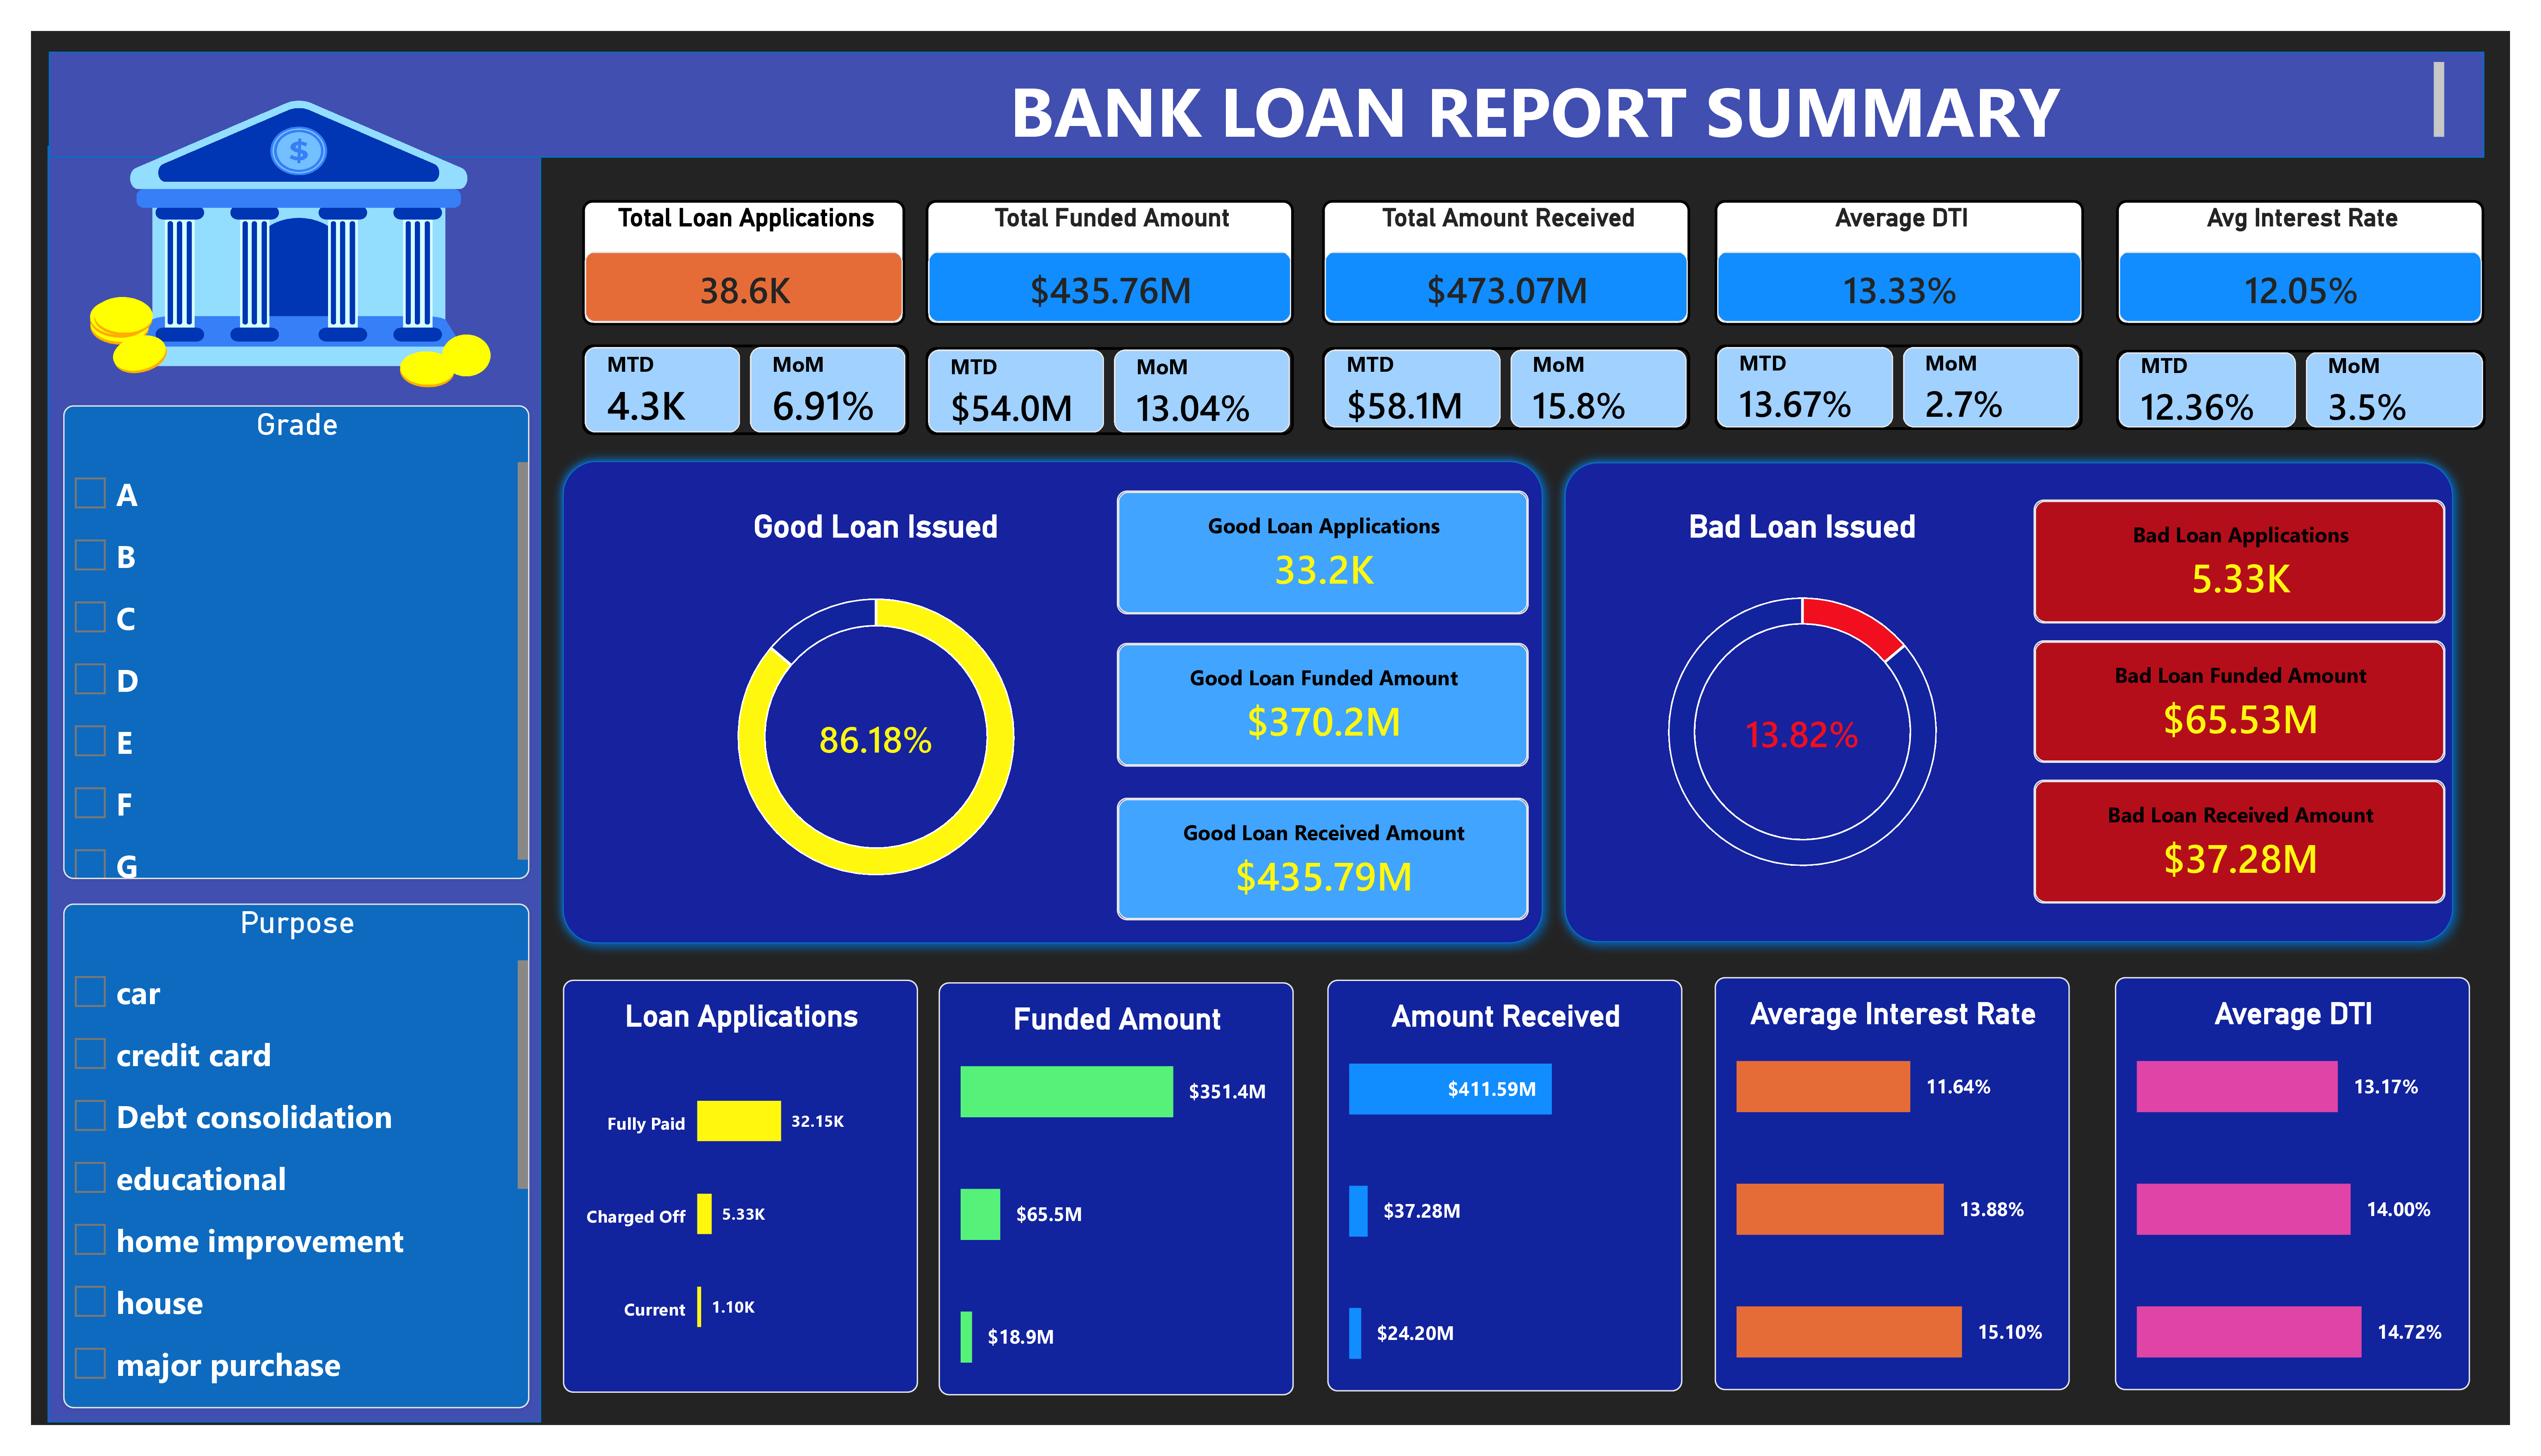

Layout of this report page (visuals, bound fields, positions):
{"tool":"powerbi","page":{"name":"Summary Dashboard","canvas":[1920,1080],"ordinal":0},"visuals":[{"type":"shape","box":[13.1,89.5,382.2,988.2],"z":0},{"type":"cardVisual","title":"Total Loan Applications","fields":{"Data":["CountNonNull(financial_loan_data.id)"]},"box":[427.2,131.1,250,97.4],"z":0,"group":"g1"},{"type":"cardVisual","fields":{"Data":["financial_loan_data.Bad Loan Applications"]},"box":[1551.3,363.5,318.5,95.6],"z":0,"group":"g3"},{"type":"cardVisual","fields":{"Data":["financial_loan_data.MTD Loan Applications","financial_loan_data.MoM Change"]},"box":[427.2,243.5,252.9,69.3],"z":1000,"group":"g1"},{"type":"shape","box":[402.8,324.1,777.5,391.6],"z":1000},{"type":"cardVisual","fields":{"Data":["financial_loan_data.Bad Loan Funded Amount"]},"box":[1551.3,472.2,318.5,95.6],"z":1000,"group":"g3"},{"type":"shape","box":[13.7,15.7,1886.3,82.4],"z":2000},{"type":"cardVisual","fields":{"Data":["financial_loan_data.MTD Funded Amount","financial_loan_data.MoM Funded Amount %"]},"box":[693.2,245.4,284.8,67.4],"z":2000,"group":"g1"},{"type":"cardVisual","fields":{"Data":["financial_loan_data.Bad Loan Received Amount"]},"box":[1551.3,580.8,318.5,95.6],"z":2000,"group":"g3"},{"type":"group","id":"g1","title":"Group 1","box":[427.2,131.1,1474.5,181.7],"z":3000},{"type":"cardVisual","fields":{"Data":["financial_loan_data.MTD Received Amount","financial_loan_data.MoM Received Amount %"]},"box":[1000.5,245.4,284.8,63.7],"z":3000,"group":"g1"},{"type":"cardVisual","fields":{"Data":["financial_loan_data.MTD Average DTI","financial_loan_data.MoM DTI Change"]},"box":[1304,243.5,284.8,65.6],"z":4000,"group":"g1"},{"type":"donutChart","title":"Good Loan Issued","fields":{"Y":["financial_loan_data.Good Loan %","financial_loan_data.Bad Loan %"]},"box":[427.2,356,455.3,341],"z":4000},{"type":"cardVisual","fields":{"Data":["financial_loan_data.MTD Average Interest Rate","financial_loan_data.MoM Interest Rate Change"]},"box":[1615,247.3,286.7,61.8],"z":5000,"group":"g1"},{"type":"shape","box":[1179.5,324.7,705.4,390],"z":5000},{"type":"cardVisual","title":"Average DTI","fields":{"Data":["Avg(financial_loan_data.dti)"]},"box":[1304,131.1,286.7,97.4],"z":6000,"group":"g1"},{"type":"donutChart","title":"Bad Loan Issued","fields":{"Y":["financial_loan_data.Bad Loan %","financial_loan_data.Good Loan %"]},"box":[1193.4,356,357.8,333.5],"z":6000},{"type":"cardVisual","title":"Total Amount Received","fields":{"Data":["Sum(financial_loan_data.total_payment)"]},"box":[1000.5,131.1,284.8,97.4],"z":7000,"group":"g1"},{"type":"group","id":"g2","title":"Group 2","box":[841.2,356,318.5,332.9],"z":7000},{"type":"cardVisual","fields":{"Data":["financial_loan_data.Good Loan Applications"]},"box":[841.2,356,318.5,95.6],"z":7000,"group":"g2"},{"type":"cardVisual","title":"Total Funded Amount","fields":{"Data":["Sum(financial_loan_data.loan_amount)"]},"box":[693.2,131.1,284.8,97.4],"z":8000,"group":"g1"},{"type":"group","id":"g3","title":"Group 3","box":[1551.3,363.5,318.5,312.9],"z":8000},{"type":"cardVisual","fields":{"Data":["financial_loan_data.Good Loan Received Amount"]},"box":[841.2,593.9,318.5,95],"z":8000,"group":"g2"},{"type":"cardVisual","title":"Avg Interest Rate","fields":{"Data":["Avg(financial_loan_data.int_rate)"]},"box":[1615,131.1,284.8,97.4],"z":9000,"group":"g1"},{"type":"cardVisual","fields":{"Data":["financial_loan_data.Good Loan Funded Amount"]},"box":[841.2,474,318.5,95.6],"z":9000,"group":"g2"},{"type":"group","id":"g4","title":"Group 4","box":[412.4,733.4,1476.9,323.7],"z":9000},{"type":"textbox","box":[468.6,23.5,1400,64.7],"z":10000},{"type":"slicer","title":"Grade","fields":{"Values":["financial_loan_data.grade"]},"box":[25.5,290.2,360.8,366.7],"z":11000},{"type":"clusteredBarChart","title":"Loan Applications","fields":{"Category":["financial_loan_data.loan_status"],"Y":["Sum(financial_loan_data.id)"]},"box":[412.4,735.3,275,320],"z":11000,"group":"g4"},{"type":"slicer","title":"Purpose","fields":{"Values":["financial_loan_data.purpose"]},"box":[25.5,676.5,360.8,390.2],"z":12000},{"type":"clusteredBarChart","title":"Amount Received ","fields":{"Y":["financial_loan_data.Total Received Amount"],"Category":["financial_loan_data.loan_status"]},"box":[1004,735.3,275,319.1],"z":12000,"group":"g4"},{"type":"image","box":[46,54,310,222],"z":13000},{"type":"clusteredBarChart","title":"Funded Amount ","fields":{"Y":["Sum(financial_loan_data.loan_amount)"],"Category":["financial_loan_data.loan_status"]},"box":[703.5,737.1,275,320],"z":13000,"group":"g4"},{"type":"clusteredBarChart","title":"Average Interest Rate","fields":{"Y":["Avg(financial_loan_data.int_rate)"],"Category":["financial_loan_data.loan_status"]},"box":[1304.5,733.4,275,320],"z":15000,"group":"g4"},{"type":"clusteredBarChart","title":"Average  DTI","fields":{"Category":["financial_loan_data.loan_status"],"Y":["Avg(financial_loan_data.dti)"]},"box":[1614.3,733.4,275,320],"z":16000,"group":"g4"}]}

Visuals, with their boxes on the page's 1920x1080 design canvas (x1, y1, x2, y2). These are canvas units, not pixel positions in the 2541x1456 screenshot, which may show the page scaled, cropped or inside an application window:
shape: (13, 90, 395, 1078)
"Total Loan Applications" cardVisual: (427, 131, 677, 228)
cardVisual - financial_loan_data.Bad Loan Applications: (1551, 364, 1870, 459)
cardVisual - financial_loan_data.MTD Loan Applications x financial_loan_data.MoM Change: (427, 244, 680, 313)
shape: (403, 324, 1180, 716)
cardVisual - financial_loan_data.Bad Loan Funded Amount: (1551, 472, 1870, 568)
shape: (14, 16, 1900, 98)
cardVisual - financial_loan_data.MTD Funded Amount x financial_loan_data.MoM Funded Amount %: (693, 245, 978, 313)
cardVisual - financial_loan_data.Bad Loan Received Amount: (1551, 581, 1870, 676)
"Group 1" group: (427, 131, 1902, 313)
cardVisual - financial_loan_data.MTD Received Amount x financial_loan_data.MoM Received Amount %: (1000, 245, 1285, 309)
cardVisual - financial_loan_data.MTD Average DTI x financial_loan_data.MoM DTI Change: (1304, 244, 1589, 309)
"Good Loan Issued" donutChart: (427, 356, 882, 697)
cardVisual - financial_loan_data.MTD Average Interest Rate x financial_loan_data.MoM Interest Rate Change: (1615, 247, 1902, 309)
shape: (1180, 325, 1885, 715)
"Average DTI" cardVisual: (1304, 131, 1591, 228)
"Bad Loan Issued" donutChart: (1193, 356, 1551, 690)
"Total Amount Received" cardVisual: (1000, 131, 1285, 228)
"Group 2" group: (841, 356, 1160, 689)
cardVisual - financial_loan_data.Good Loan Applications: (841, 356, 1160, 452)
"Total Funded Amount" cardVisual: (693, 131, 978, 228)
"Group 3" group: (1551, 364, 1870, 676)
cardVisual - financial_loan_data.Good Loan Received Amount: (841, 594, 1160, 689)
"Avg Interest Rate" cardVisual: (1615, 131, 1900, 228)
cardVisual - financial_loan_data.Good Loan Funded Amount: (841, 474, 1160, 570)
"Group 4" group: (412, 733, 1889, 1057)
textbox: (469, 24, 1869, 88)
"Grade" slicer: (26, 290, 386, 657)
"Loan Applications" clusteredBarChart: (412, 735, 687, 1055)
"Purpose" slicer: (26, 676, 386, 1067)
"Amount Received " clusteredBarChart: (1004, 735, 1279, 1054)
image: (46, 54, 356, 276)
"Funded Amount " clusteredBarChart: (704, 737, 978, 1057)
"Average Interest Rate" clusteredBarChart: (1304, 733, 1580, 1053)
"Average  DTI" clusteredBarChart: (1614, 733, 1889, 1053)
